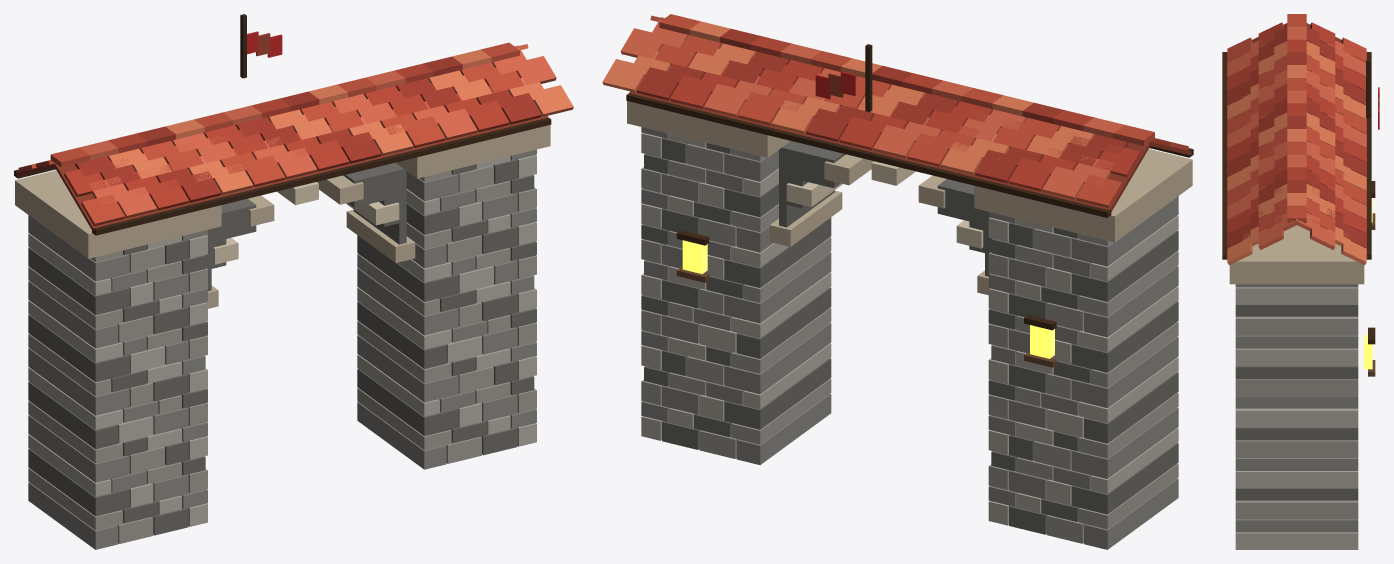
The model's file is vn_building_town_gate.glb.
3 views of the same model, side by side, from view 1: azimuth 30°, elevation 25°; view 2: azimuth 150°, elevation 25°; view 3: azimuth 270°, elevation 25° (orthographic). The views are drawn at different scales.
Visible parts, largest first — view 1: gate_stone, gate_roof, gate_wood; view 2: gate_stone, gate_roof, gate_wood, gate_win; view 3: gate_stone, gate_roof, gate_wood, gate_win.
Boxes of the visible parts, x1,y1,x2,y2 form: gate_stone: [15, 125, 550, 549]; gate_roof: [16, 42, 573, 232]; gate_wood: [14, 14, 551, 235]; gate_stone: [627, 101, 1192, 549]; gate_roof: [602, 14, 1191, 213]; gate_wood: [626, 44, 1193, 367]; gate_win: [682, 240, 1054, 358]; gate_stone: [1229, 225, 1364, 549]; gate_roof: [1225, 14, 1368, 265]; gate_wood: [1222, 52, 1379, 376]; gate_win: [1363, 198, 1372, 369].
Bounding box in the file's own units: 5.74 × 4.85 × 1.77.
